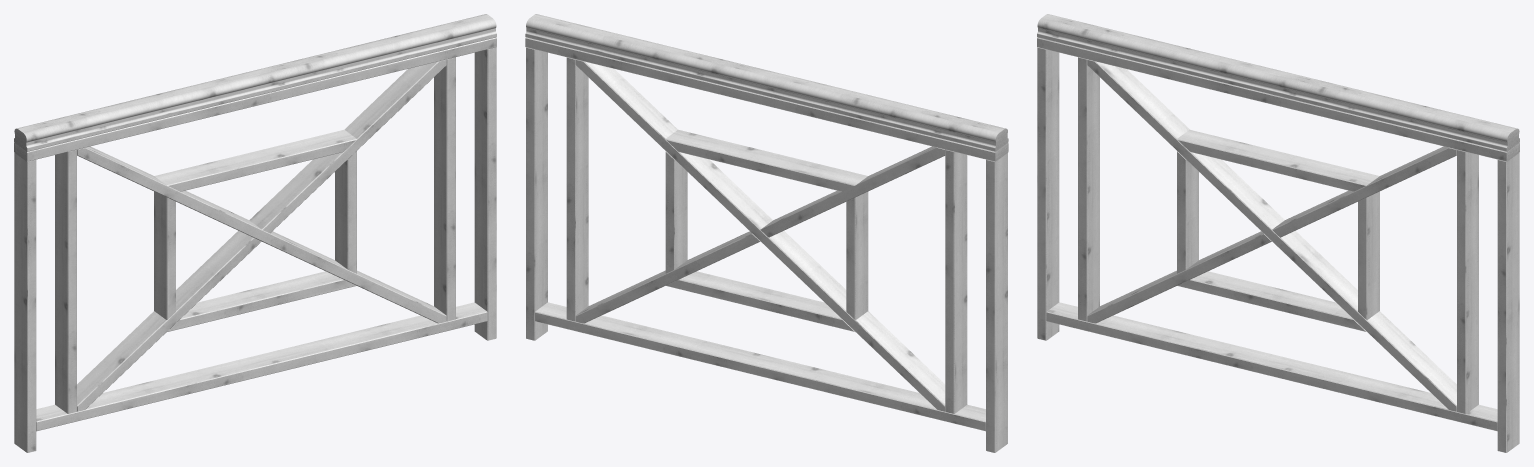
Rendered from testmodel.glb.
The picture shows the model from 3 angles, left to right: view 1: azimuth 30°, elevation 25°; view 2: azimuth 150°, elevation 25°; view 3: azimuth 330°, elevation 25°; orthographic projection.
Visible parts, largest first — view 1: MC_SPE_1385_0, ANT-1145_0, ANT_1329_0, ANT-738_3, ANT-738_2, ANT-738_1, ANT-1145_1, ANT-738_0, ANT-1385_0, ANT-561_0, ANT-561_1, ANT-346_1 (+1 smaller); view 2: MC_SPE_1385_0, ANT-1145_0, ANT_1329_0, ANT-738_3, ANT-738_2, ANT-738_1, ANT-738_0, ANT-1145_1, ANT-1385_0, ANT-561_0, ANT-561_1, ANT-346_1 (+1 smaller); view 3: MC_SPE_1385_0, ANT-1145_1, ANT_1329_0, ANT-738_2, ANT-738_3, ANT-738_0, ANT-1145_0, ANT-738_1, ANT-1385_0, ANT-561_0, ANT-561_1, ANT-346_0 (+1 smaller).
Boxes of the visible parts, <box> form: MC_SPE_1385_0: <box>14,14,496,151</box>; ANT-1145_0: <box>77,59,446,411</box>; ANT_1329_0: <box>36,302,487,431</box>; ANT-738_3: <box>14,153,36,452</box>; ANT-738_2: <box>474,47,496,340</box>; ANT-738_1: <box>55,149,76,413</box>; ANT-1145_1: <box>77,146,446,323</box>; ANT-738_0: <box>434,57,455,321</box>; ANT-1385_0: <box>14,37,496,161</box>; ANT-561_0: <box>154,129,356,191</box>; ANT-561_1: <box>167,271,356,331</box>; ANT-346_1: <box>154,191,175,319</box>; MC_SPE_1385_0: <box>525,14,1008,151</box>; ANT-1145_0: <box>575,59,945,411</box>; ANT_1329_0: <box>535,302,985,431</box>; ANT-738_3: <box>986,153,1007,452</box>; ANT-738_2: <box>526,47,547,340</box>; ANT-738_1: <box>945,149,967,413</box>; ANT-738_0: <box>566,57,588,321</box>; ANT-1145_1: <box>575,146,945,323</box>; ANT-1385_0: <box>525,37,1008,161</box>; ANT-561_0: <box>665,129,867,191</box>; ANT-561_1: <box>666,271,854,331</box>; ANT-346_1: <box>846,192,868,319</box>; MC_SPE_1385_0: <box>1037,14,1519,151</box>; ANT-1145_1: <box>1087,59,1456,411</box>; ANT_1329_0: <box>1046,302,1497,431</box>; ANT-738_2: <box>1497,153,1519,452</box>; ANT-738_3: <box>1037,47,1059,340</box>; ANT-738_0: <box>1457,149,1478,413</box>; ANT-1145_0: <box>1087,146,1456,323</box>; ANT-738_1: <box>1078,57,1099,321</box>; ANT-1385_0: <box>1037,37,1519,161</box>; ANT-561_0: <box>1177,129,1379,191</box>; ANT-561_1: <box>1177,271,1366,331</box>; ANT-346_0: <box>1358,191,1379,319</box>.
Size of the model in its own units: 1.39 by 0.894 by 0.068.
2 materials, 2 textured.
